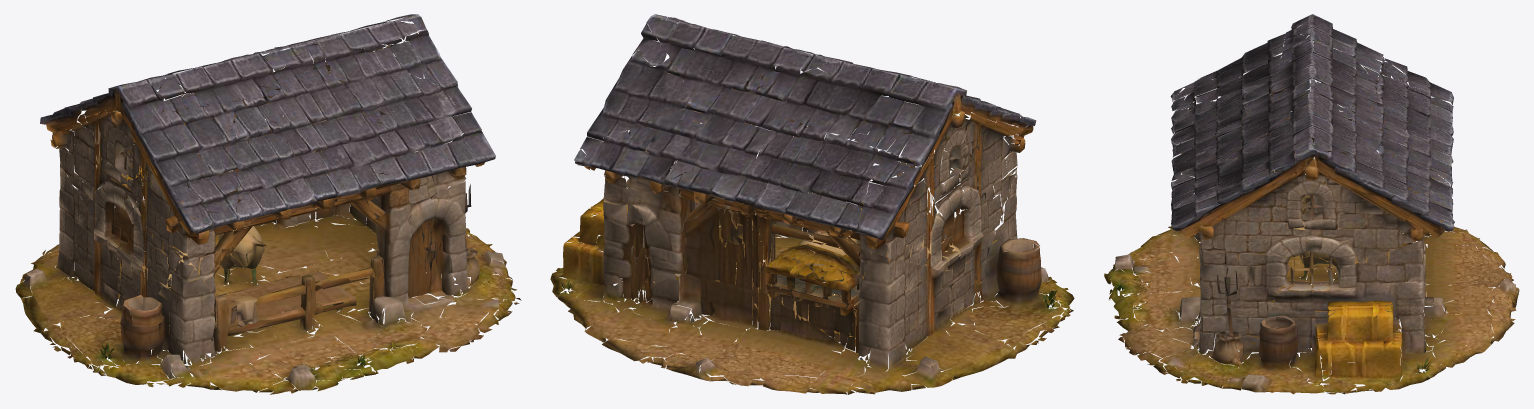
Rendered from bergerie_t2.glb.
3 renders of one model, left to right at view 1: azimuth 30°, elevation 25°; view 2: azimuth 150°, elevation 25°; view 3: azimuth 270°, elevation 25°, orthographic. The views are drawn at different scales.
Parts seen in each view (by area): view 1: bergerie_t2; view 2: bergerie_t2; view 3: bergerie_t2.
Part boxes in pixels (<box>): bergerie_t2: <box>15,14,521,394</box>; bergerie_t2: <box>550,14,1074,394</box>; bergerie_t2: <box>1104,14,1519,394</box>.
Bounding box in the file's own units: 0.9981 × 0.5296 × 0.8964.
Materials: 1 (1 with a texture image).
